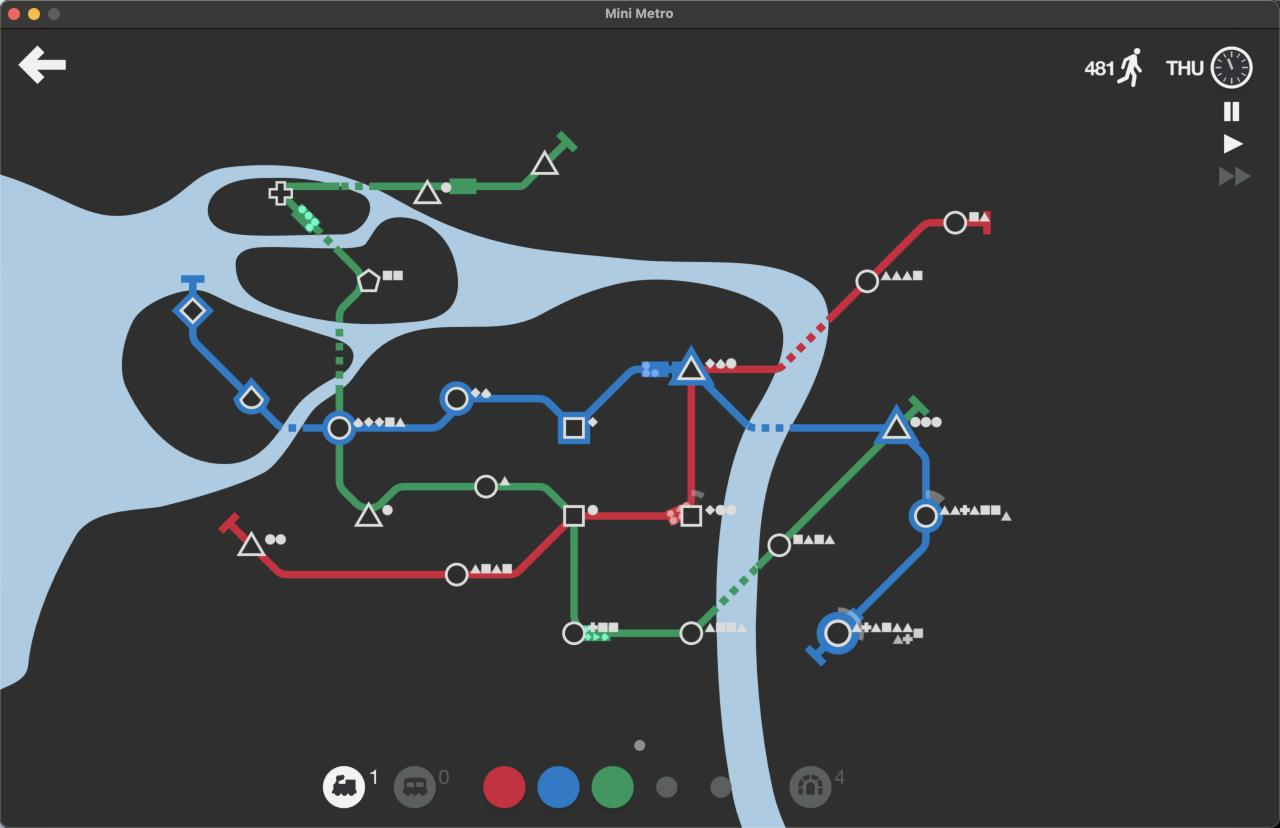CIRCLE: (908, 497, 943, 533), (322, 411, 356, 445), (440, 381, 473, 414), (823, 618, 853, 648), (767, 532, 792, 558), (679, 620, 704, 646), (444, 562, 469, 588), (854, 269, 879, 294), (474, 474, 499, 499), (943, 210, 967, 235), (562, 621, 586, 646)
CROSS: (268, 180, 294, 205)
GEM: (234, 378, 271, 417), (178, 295, 209, 325), (357, 268, 382, 294)
SQUARE: (561, 415, 587, 442), (562, 504, 586, 527), (680, 504, 703, 527)
TRIANGLE: (675, 350, 707, 383), (880, 412, 911, 440), (354, 500, 384, 528), (530, 149, 559, 176), (413, 178, 442, 205), (236, 531, 266, 557)
